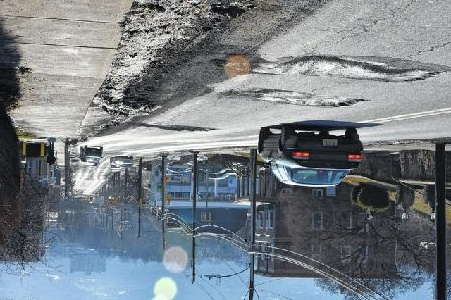pothole: (278, 55, 447, 85), (251, 87, 368, 109), (153, 124, 218, 133)
